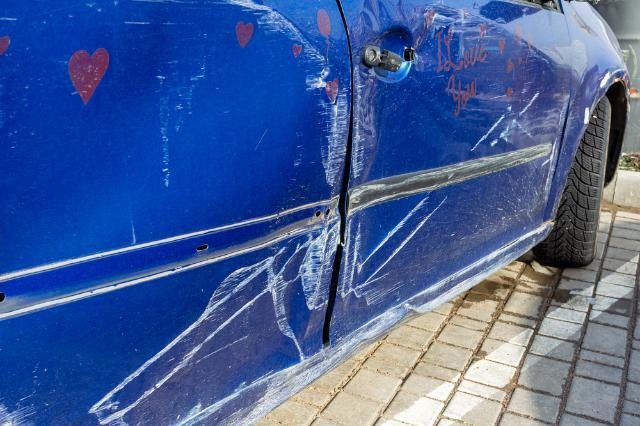dent: (22, 0, 328, 260)
rub: (86, 83, 352, 426), (331, 40, 547, 368)
scratch: (352, 68, 377, 179), (0, 398, 44, 426)
